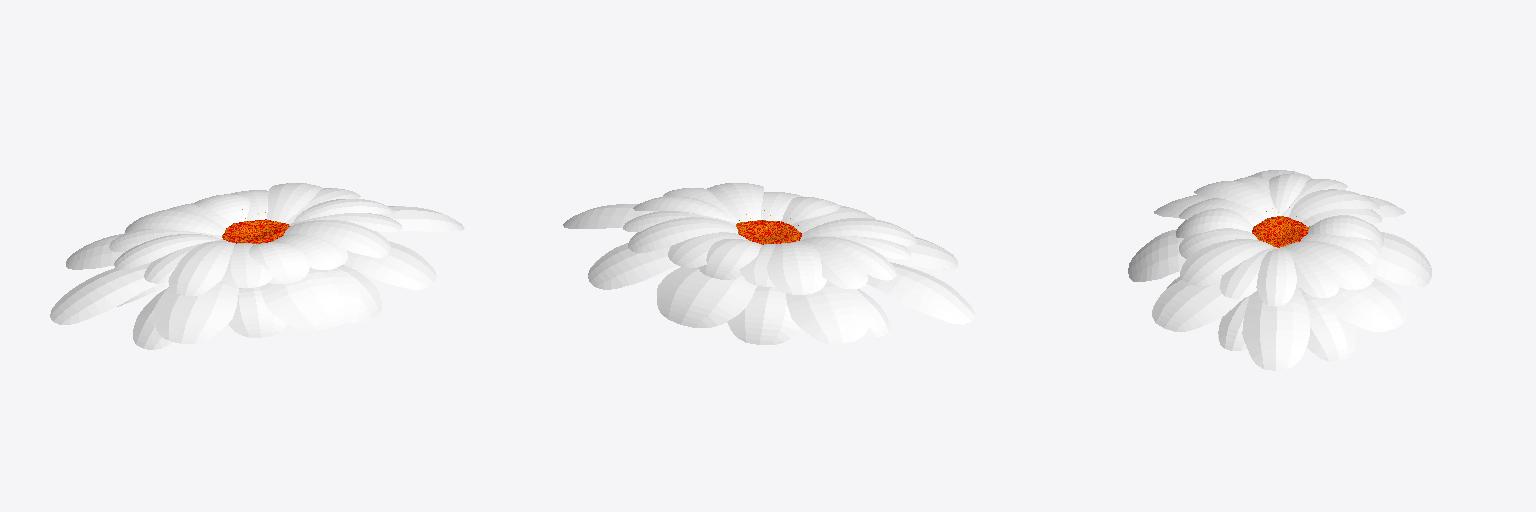
3 views of the same model, side by side, from view 1: azimuth 30°, elevation 25°; view 2: azimuth 150°, elevation 25°; view 3: azimuth 270°, elevation 25° (orthographic).
Visible parts, largest first — view 1: hierba:Mesh; view 2: hierba:Mesh; view 3: hierba:Mesh.
Boxes of the visible parts, x1=… form: hierba:Mesh: x1=50, y1=183, x2=464, y2=349; hierba:Mesh: x1=563, y1=183, x2=975, y2=344; hierba:Mesh: x1=1128, y1=170, x2=1431, y2=370.
Size of the model in its own units: 62.09 by 11.08 by 40.24.
Materials: 5 (1 with a texture image).